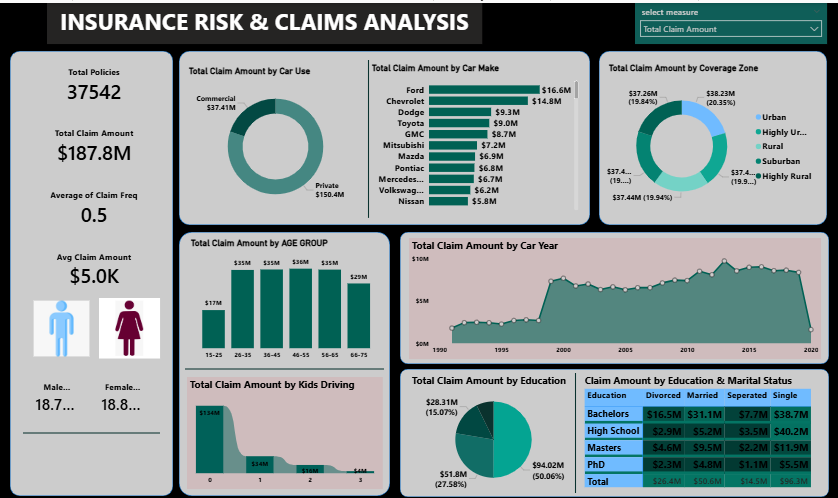

The dashboard page shown, as its layout file describes it:
{"tool":"powerbi","page":{"name":"Page 1","canvas":[1600,950],"ordinal":0},"visuals":[{"type":"textbox","box":[95,0,826.5,77.9],"z":0},{"type":"shape","box":[24.7,91.2,309.7,845.5],"z":1000},{"type":"cardVisual","fields":{"Data":["insurance_data_car.Total Policies","insurance_data_car.Total Claim Amount","Avg(insurance_data_car.Claim Freq)","insurance_data_car.Avg Claim Amount"]},"box":[49.4,102.6,270,460],"z":2000},{"type":"cardVisual","fields":{"Data":["insurance_data_car.Male Count","insurance_data_car.Female Count"]},"box":[49.4,693.5,240,110],"z":3000},{"type":"image","box":[64.6,560.5,115.9,115.9],"z":4000},{"type":"image","box":[193.8,560.5,115.9,115],"z":5000},{"type":"slicer","fields":{"Values":["select measure.select measure"]},"box":[1212.2,0,364.8,77.9],"z":6000},{"type":"shape","title":"Total  Claim Amount","box":[345.8,91.2,780.9,330.6],"z":7000},{"type":"donutChart","fields":{"Y":["insurance_data_car.Total Claim Amount"],"Category":["insurance_data_car.Car Use"]},"box":[359.1,119.7,340.1,285],"z":8000},{"type":"clusteredBarChart","fields":{"Y":["insurance_data_car.Total Claim Amount"],"Category":["insurance_data_car.Car Make"]},"box":[706.8,114,402.8,285],"z":9000},{"type":"shape","title":"Total  Claim Amount","box":[1143.8,91.2,433.2,330.6],"z":10000},{"type":"donutChart","fields":{"Y":["insurance_data_car.Total Claim Amount"],"Category":["insurance_data_car.Coverage Zone"]},"box":[1157.1,114,406.6,294.5],"z":11000},{"type":"shape","title":"Total  Claim Amount","box":[345.8,435.1,400.9,501.6],"z":12000},{"type":"clusteredColumnChart","fields":{"Y":["insurance_data_car.Total Claim Amount"],"Category":["insurance_data_car.AGE GROUP"]},"box":[362.9,446.5,374.3,239.4],"z":13000},{"type":"ribbonChart","fields":{"Y":["insurance_data_car.Total Claim Amount"],"Category":["insurance_data_car.Kids Driving"]},"box":[361,710.6,372.4,212.8],"z":14000},{"type":"shape","title":"Total  Claim Amount","box":[765.7,435.1,815.1,250.8],"z":15000},{"type":"areaChart","fields":{"Y":["insurance_data_car.Total Claim Amount"],"Category":["insurance_data_car.Car Year"]},"box":[782.8,446.5,782.8,229.9],"z":16000},{"type":"shape","title":"Total  Claim Amount","box":[765.7,695.4,815.1,243.2],"z":17000},{"type":"pieChart","fields":{"Y":["insurance_data_car.Total Claim Amount"],"Category":["insurance_data_car.Education"]},"box":[782.8,703,321.1,228],"z":18000},{"type":"pivotTable","title":"Claim Amount by Education  & Marital Status","fields":{"Rows":["insurance_data_car.Education"],"Columns":["insurance_data_car.Marital Status"],"Values":["insurance_data_car.Total Claim Amount"]},"box":[1111.5,703,454.1,228],"z":19000},{"type":"shape","box":[693.5,108.3,24.7,300.2],"z":20000},{"type":"shape","box":[1086.8,703,24.7,228],"z":21000},{"type":"shape","box":[357.2,685.9,378.1,19],"z":22000},{"type":"shape","box":[49.4,801.8,260.3,30.4],"z":23000}]}

Visuals, with their boxes in screenshot pixels (x1, y1, x2, y2), scaled from the page's 1600x950 canvas onto the 838x498 screenshot:
textbox: {"left": 50, "top": 0, "right": 483, "bottom": 41}
shape: {"left": 13, "top": 48, "right": 175, "bottom": 491}
cardVisual - insurance_data_car.Total Policies x insurance_data_car.Total Claim Amount: {"left": 26, "top": 54, "right": 167, "bottom": 295}
cardVisual - insurance_data_car.Male Count x insurance_data_car.Female Count: {"left": 26, "top": 364, "right": 152, "bottom": 421}
image: {"left": 34, "top": 294, "right": 95, "bottom": 355}
image: {"left": 102, "top": 294, "right": 162, "bottom": 354}
slicer - select measure.select measure: {"left": 635, "top": 0, "right": 826, "bottom": 41}
"Total  Claim Amount" shape: {"left": 181, "top": 48, "right": 590, "bottom": 221}
donutChart - insurance_data_car.Total Claim Amount x insurance_data_car.Car Use: {"left": 188, "top": 63, "right": 366, "bottom": 212}
clusteredBarChart - insurance_data_car.Total Claim Amount x insurance_data_car.Car Make: {"left": 370, "top": 60, "right": 581, "bottom": 209}
"Total  Claim Amount" shape: {"left": 599, "top": 48, "right": 826, "bottom": 221}
donutChart - insurance_data_car.Total Claim Amount x insurance_data_car.Coverage Zone: {"left": 606, "top": 60, "right": 819, "bottom": 214}
"Total  Claim Amount" shape: {"left": 181, "top": 228, "right": 391, "bottom": 491}
clusteredColumnChart - insurance_data_car.Total Claim Amount x insurance_data_car.AGE GROUP: {"left": 190, "top": 234, "right": 386, "bottom": 360}
ribbonChart - insurance_data_car.Total Claim Amount x insurance_data_car.Kids Driving: {"left": 189, "top": 373, "right": 384, "bottom": 484}
"Total  Claim Amount" shape: {"left": 401, "top": 228, "right": 828, "bottom": 360}
areaChart - insurance_data_car.Total Claim Amount x insurance_data_car.Car Year: {"left": 410, "top": 234, "right": 820, "bottom": 355}
"Total  Claim Amount" shape: {"left": 401, "top": 365, "right": 828, "bottom": 492}
pieChart - insurance_data_car.Total Claim Amount x insurance_data_car.Education: {"left": 410, "top": 369, "right": 578, "bottom": 488}
"Claim Amount by Education  & Marital Status" pivotTable: {"left": 582, "top": 369, "right": 820, "bottom": 488}
shape: {"left": 363, "top": 57, "right": 376, "bottom": 214}
shape: {"left": 569, "top": 369, "right": 582, "bottom": 488}
shape: {"left": 187, "top": 360, "right": 385, "bottom": 370}
shape: {"left": 26, "top": 420, "right": 162, "bottom": 436}
